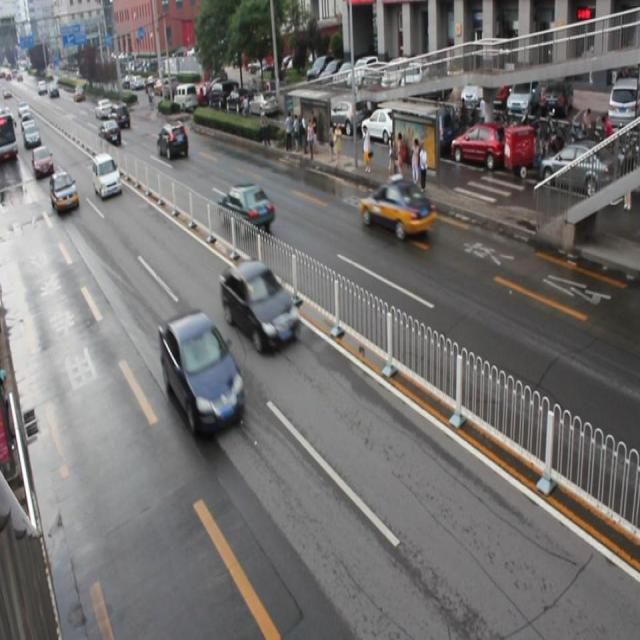car: (158, 309, 244, 432), (219, 258, 299, 352), (359, 173, 436, 242), (218, 181, 275, 230), (92, 152, 122, 198), (50, 168, 79, 212), (157, 121, 188, 159)
